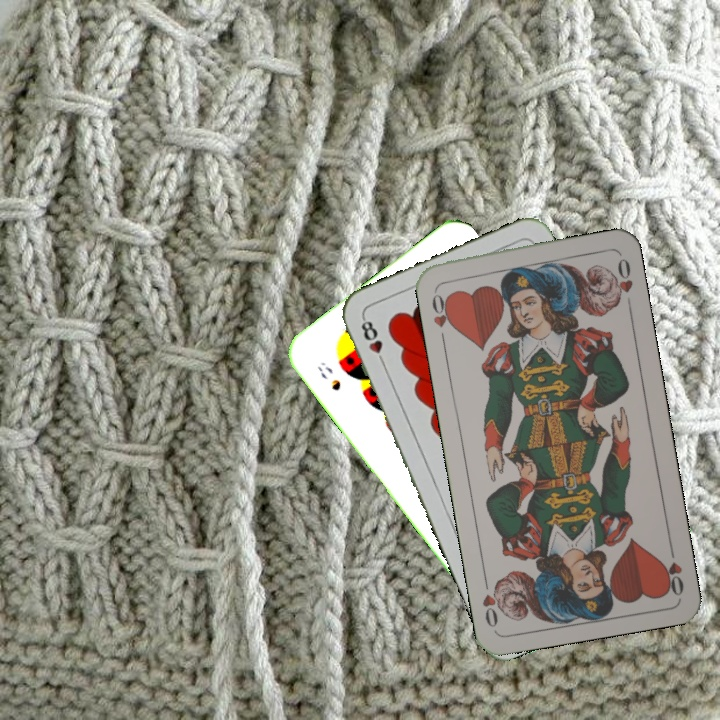H8: (357, 314, 389, 370)
HO: (428, 285, 457, 344), (659, 539, 687, 598)
S8: (314, 357, 344, 394)
